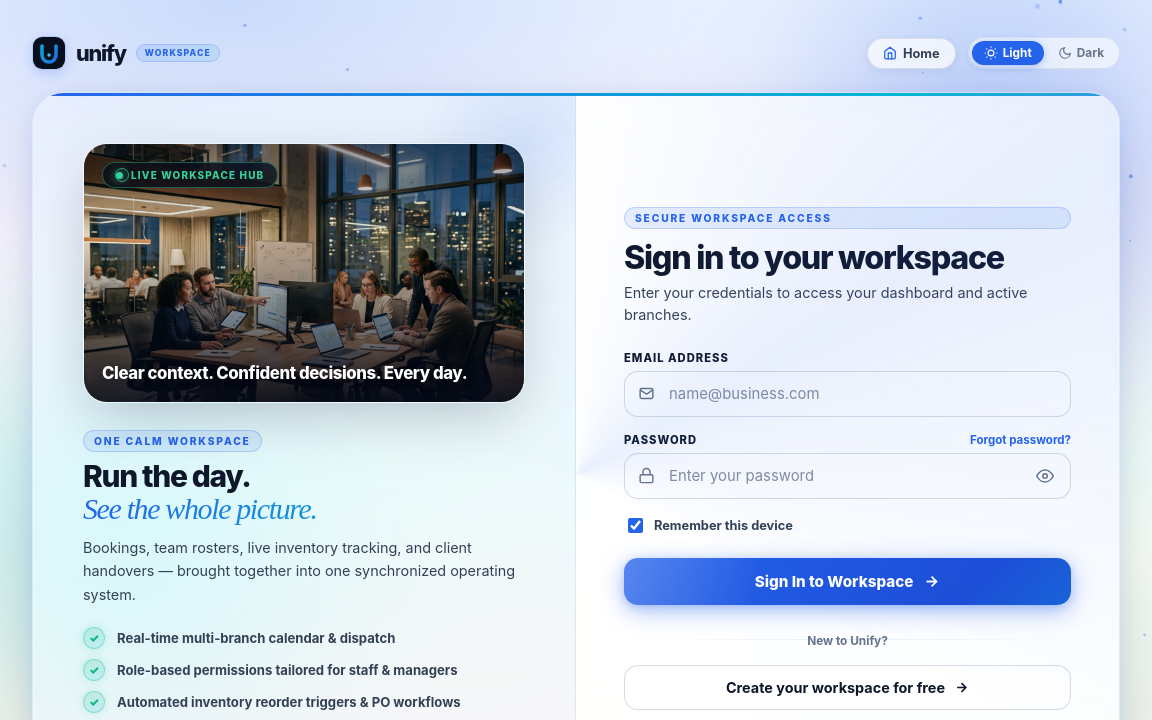
Scenario: LoginPage › blocks submission and explains why when the fields are empty
The image size is (1152, 720).
Click the button "Sign In to Workspace": (848, 581) x1=624 y1=558 x2=1071 y2=605
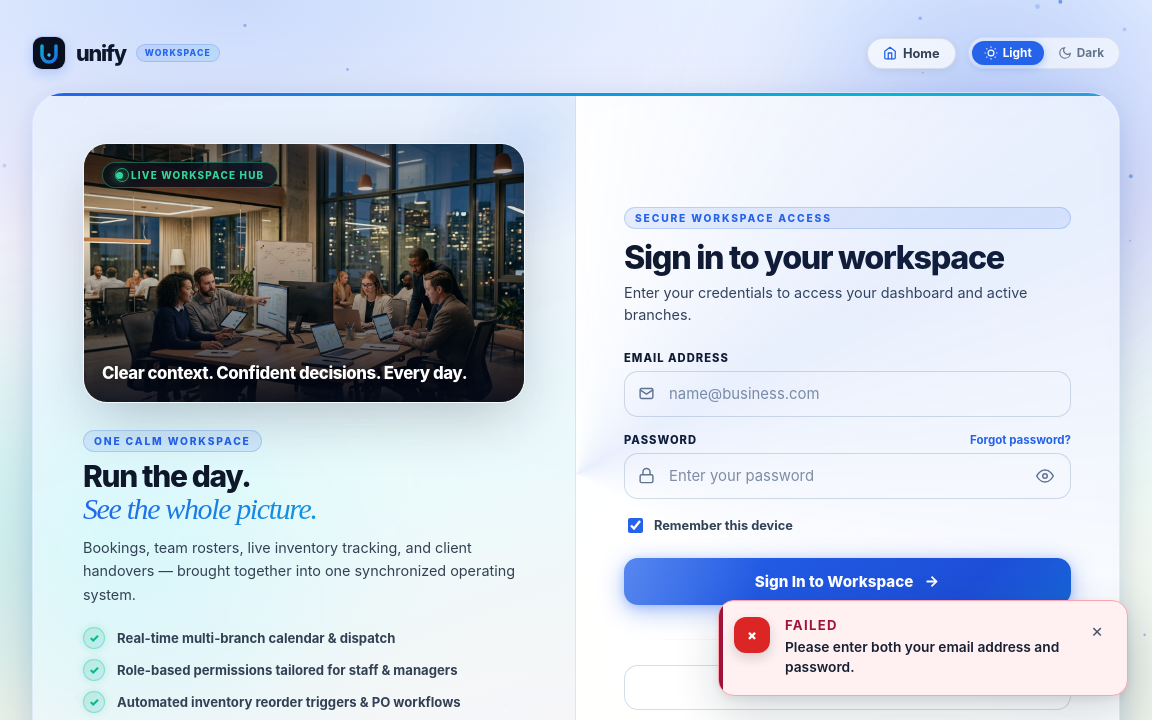
Expected: the text "Please enter both your email address and password." is shown, x1=785 y1=638 x2=1075 y2=677
